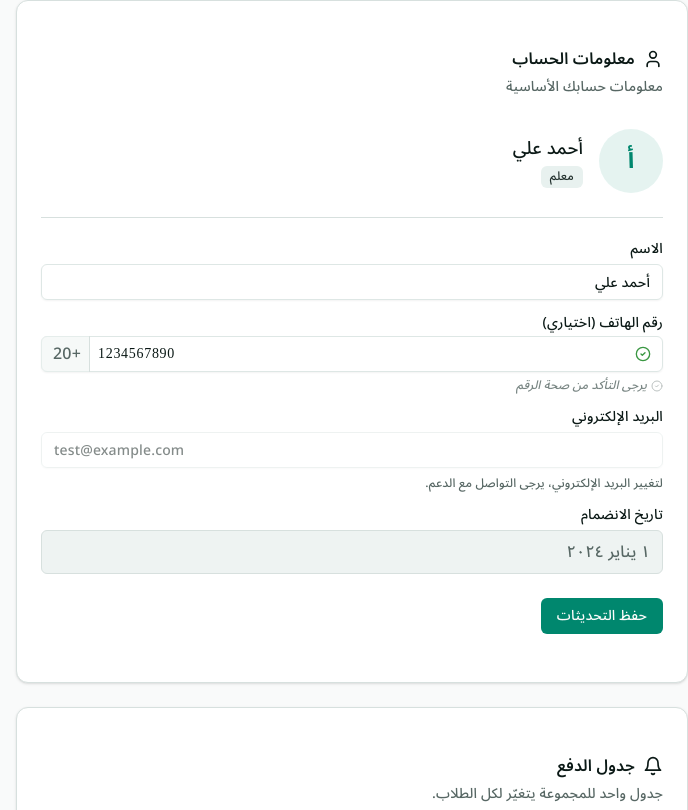
Test: SettingsForm › shows error banner when profile save fails
This screenshot has width=688, height=810.
Click the button "حفظ التحديثات" at (602, 616), box [541,598,663,634]
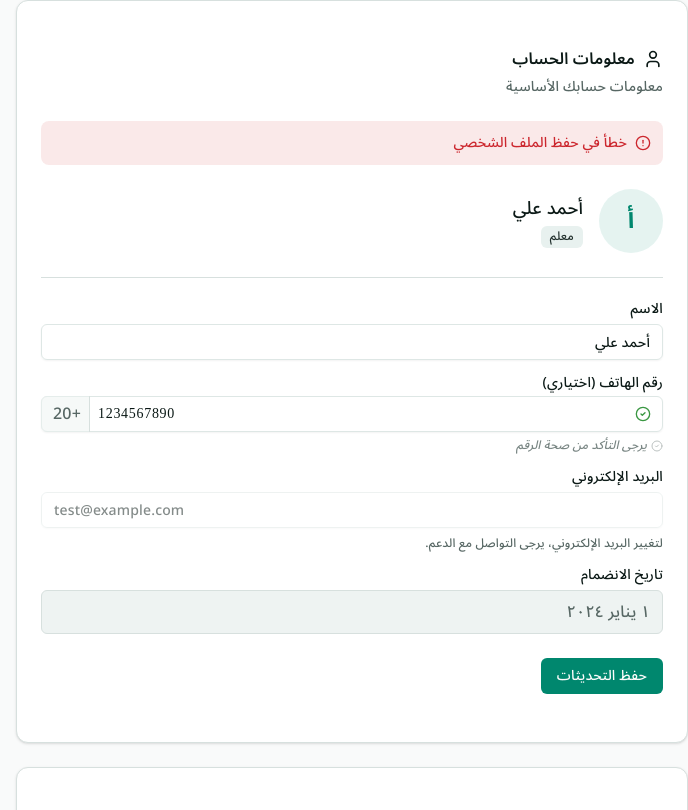
Expected: the text "خطأ في حفظ الملف الشخصي" is shown, [453,133,627,153]
